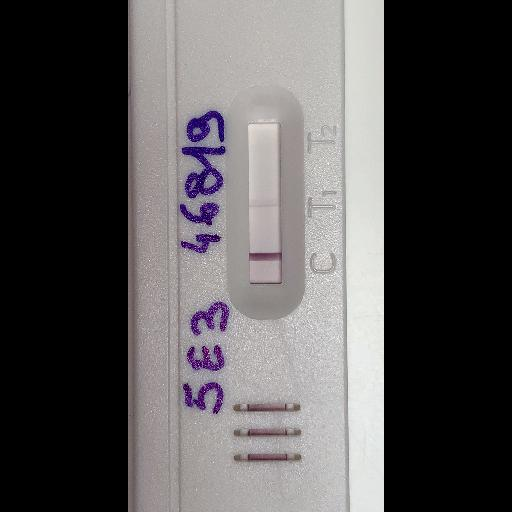Pos: (128, 0, 351, 511)
